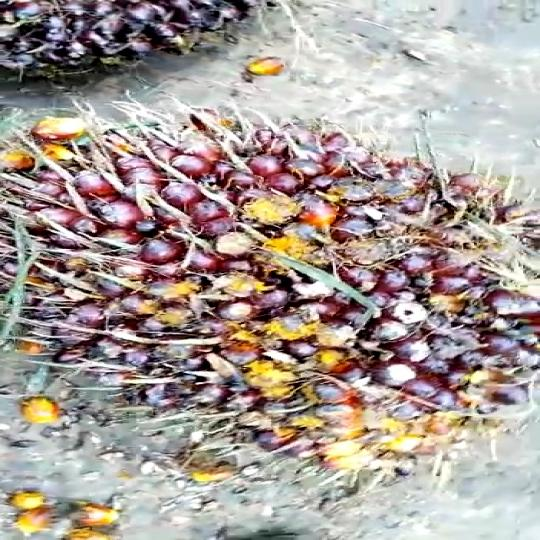masak: (0, 113, 540, 452)
